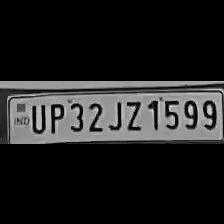1: (144, 96, 160, 130)
2: (84, 96, 104, 132)
3: (65, 96, 85, 132)
5: (160, 94, 180, 130)
9: (180, 95, 200, 129), (198, 95, 218, 129)
J: (104, 96, 124, 132)
P: (45, 99, 65, 134)
U: (27, 100, 46, 132)
Z: (122, 96, 142, 132)
